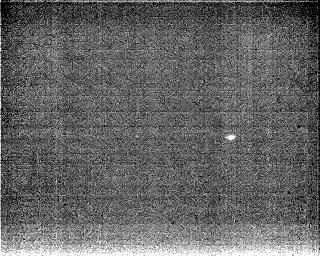AIRPLANE: (224, 132, 237, 143)
